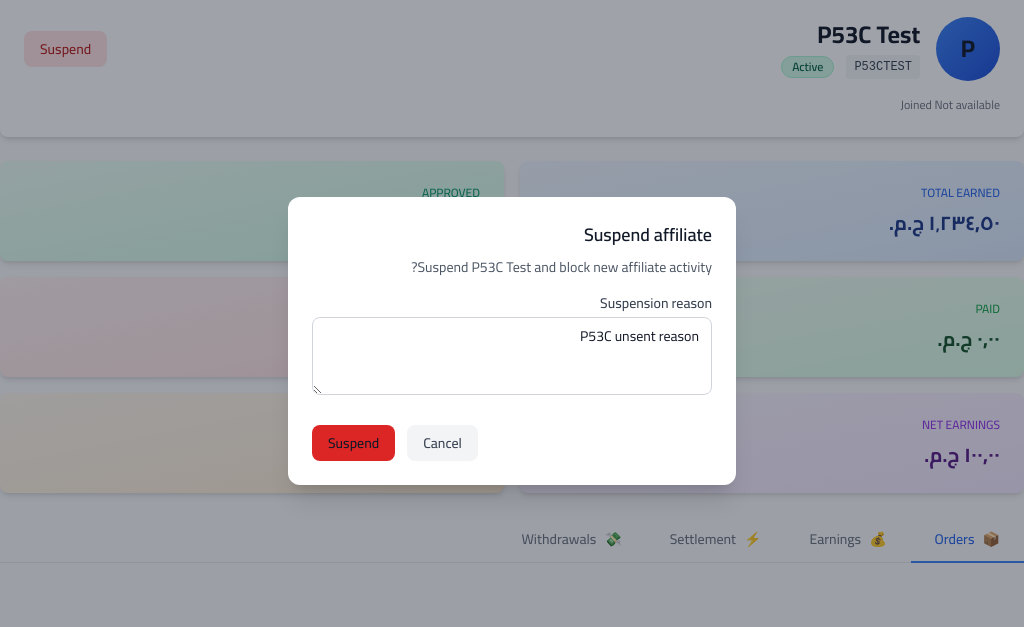
Affiliate Admin English/Arabic localization › updates an open detail confirmation and validation while retaining unsaved reason and tab
Earlier steps of the test are not shown.
Expected: the text box holds "P53C unsent reason", [312,317,712,395]
Expected: the heading "Suspend affiliate" is shown, [584,218,712,251]
Step 1. Click the button "Cancel" → point(443, 443), box [407,425,478,461]
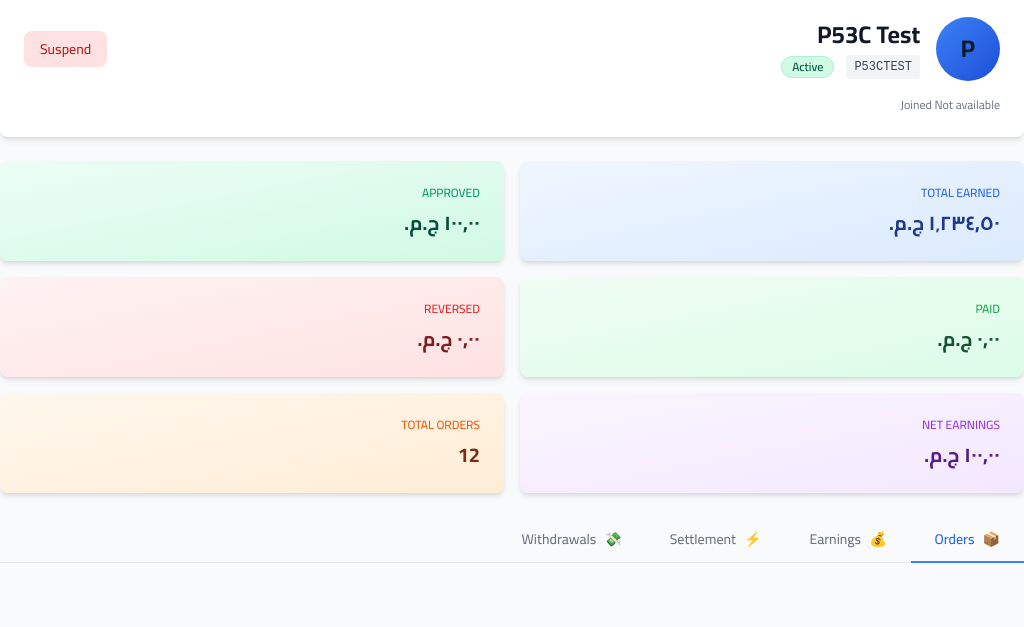
Step 2. Click the button "💸 Withdrawals" → point(572, 540), box [497,517,646,563]
(page scrolled)
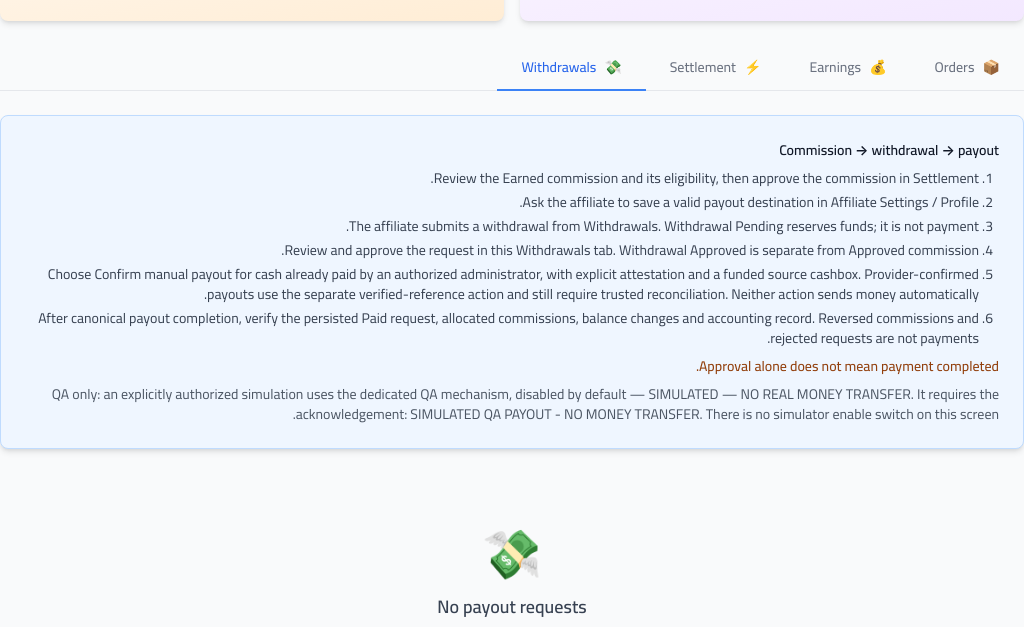
Expected: the heading "No payout requests" is shown, [437,593,587,621]
